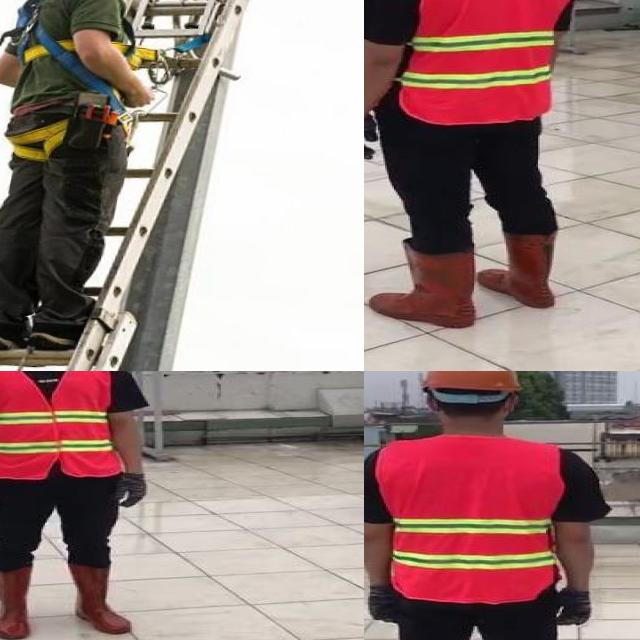Harness: (4, 0, 113, 98)
boots: (365, 240, 480, 330), (482, 226, 567, 310), (66, 562, 132, 636), (0, 566, 32, 640)
hand_glove: (553, 588, 596, 628), (109, 472, 150, 510), (370, 584, 400, 628), (364, 116, 382, 159)
head_helmet: (416, 371, 526, 394)
person: (364, 0, 585, 332), (364, 371, 617, 640), (0, 371, 164, 640)
vest: (377, 434, 562, 599), (388, 0, 577, 123), (0, 371, 123, 482)
